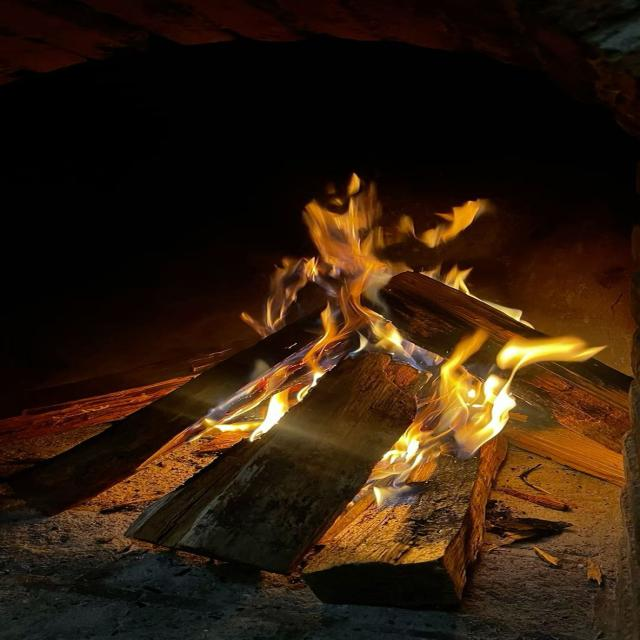fire: (205, 171, 609, 509)
